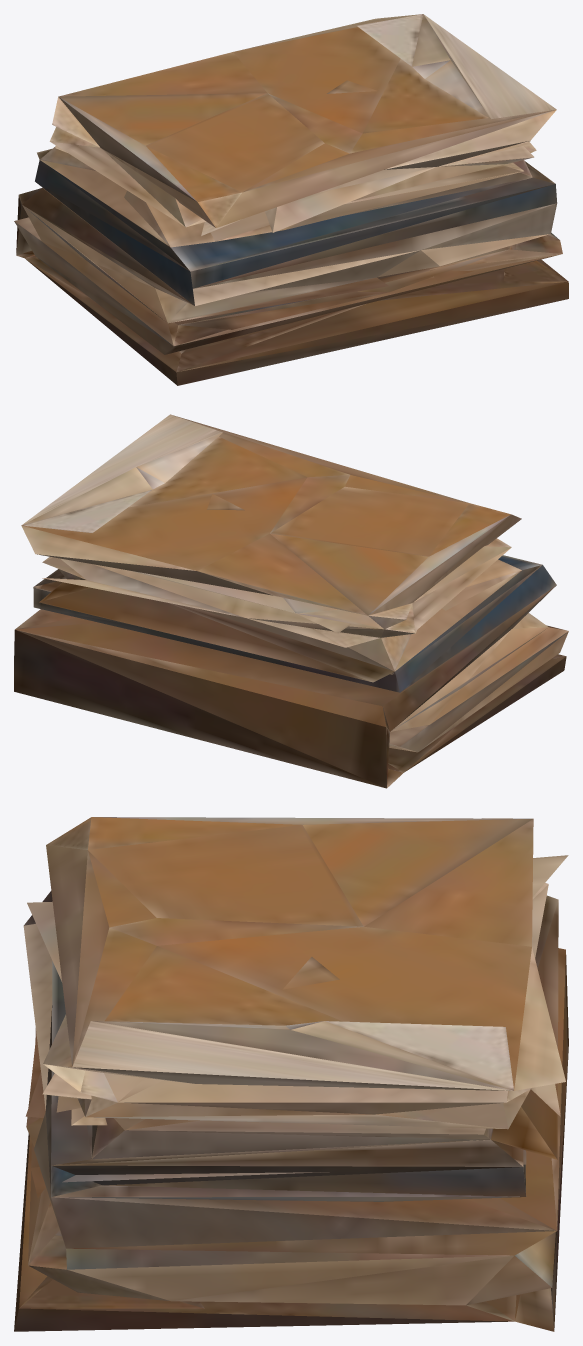
The model's file is pilha_papeis.glb.
3 renders of one model, top to bottom at view 1: azimuth 30°, elevation 25°; view 2: azimuth 150°, elevation 25°; view 3: azimuth 270°, elevation 25°, orthographic. The views are drawn at different scales.
Parts seen in each view (by area): view 1: Mesh_0; view 2: Mesh_0; view 3: Mesh_0.
Boxes of the visible parts, x1,y1,x2,y2 form: Mesh_0: (14,14,568,385); Mesh_0: (14,414,568,788); Mesh_0: (14,817,568,1331).
Size of the model in its own units: 0.4686 by 0.2 by 0.3593.
Materials: 1 (1 with a texture image).
